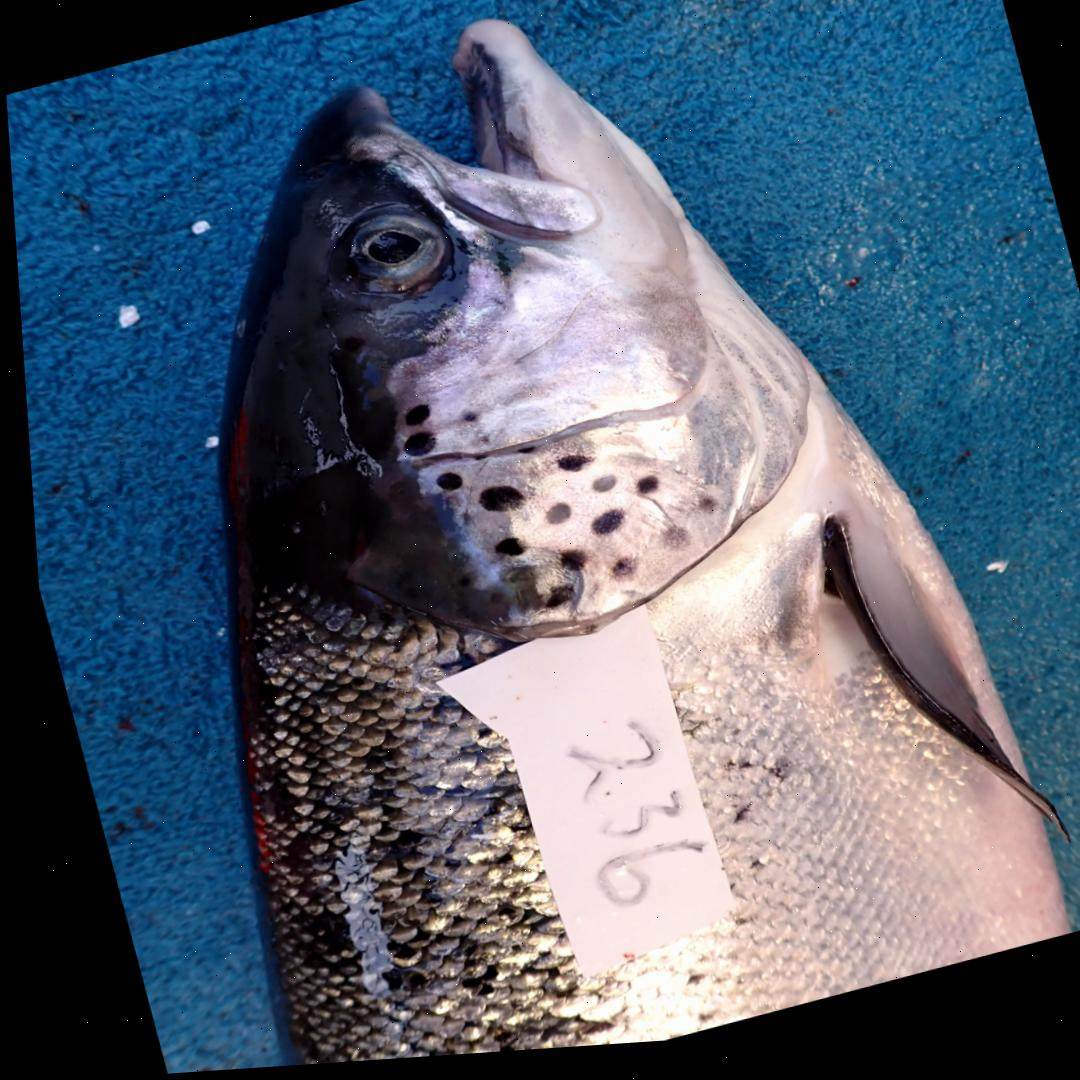spot: (470, 492, 515, 519), (493, 572, 526, 601), (583, 517, 616, 544), (395, 438, 429, 462), (535, 592, 566, 616), (654, 535, 682, 558), (397, 409, 424, 431), (551, 557, 578, 579), (537, 510, 563, 532), (602, 565, 628, 587), (486, 544, 516, 563), (551, 462, 582, 480), (428, 478, 455, 497), (583, 482, 609, 501), (689, 505, 711, 524), (628, 485, 651, 503), (506, 452, 530, 462), (456, 417, 471, 430), (472, 442, 484, 453), (466, 460, 480, 468)
